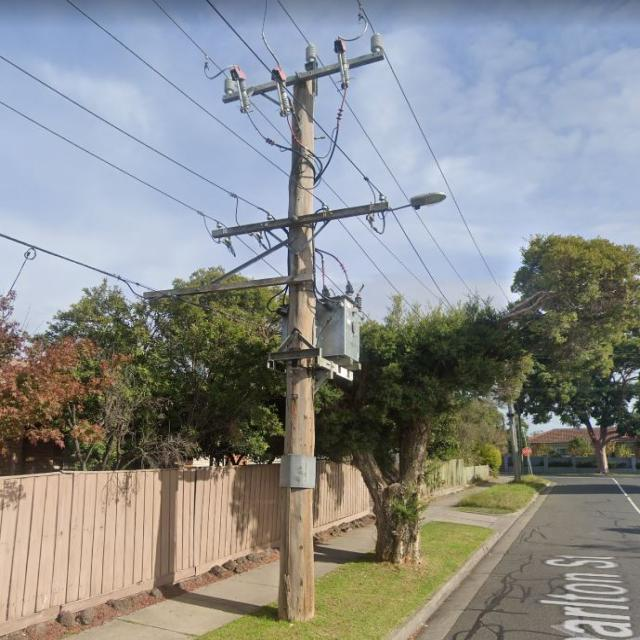HV-transmission: (222, 31, 388, 112)
LV link: (366, 210, 386, 235), (250, 230, 273, 251), (221, 236, 237, 257)
crossarm: (221, 32, 387, 114), (210, 201, 390, 238), (143, 272, 315, 300)
streetlight: (390, 191, 449, 213)
transformer: (274, 291, 363, 372)
